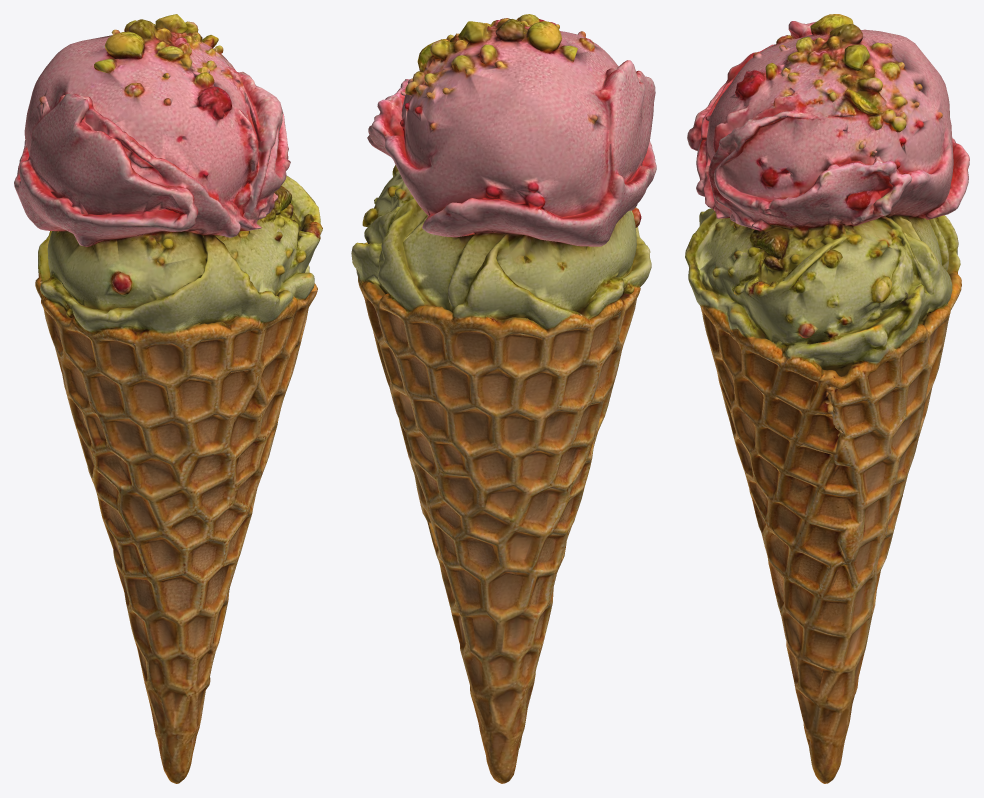
Rendered from gelato.glb.
The picture shows the model from 3 angles, left to right: view 1: azimuth 30°, elevation 25°; view 2: azimuth 150°, elevation 25°; view 3: azimuth 270°, elevation 25°; orthographic projection. The views are drawn at different scales.
Visible parts, largest first — view 1: tripo_node_9737a45b-aca8-4b5e-b7d4-21bacdd344a2; view 2: tripo_node_9737a45b-aca8-4b5e-b7d4-21bacdd344a2; view 3: tripo_node_9737a45b-aca8-4b5e-b7d4-21bacdd344a2.
Boxes of the visible parts, bbox=[...] form: tripo_node_9737a45b-aca8-4b5e-b7d4-21bacdd344a2: bbox=[14, 14, 322, 783]; tripo_node_9737a45b-aca8-4b5e-b7d4-21bacdd344a2: bbox=[351, 14, 656, 783]; tripo_node_9737a45b-aca8-4b5e-b7d4-21bacdd344a2: bbox=[685, 14, 969, 783].
Bounding box in the file's own units: 0.3554 × 0.9812 × 0.3384.
1 material, 1 textured.
